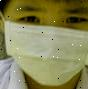with_mask: (1, 1, 88, 89)
